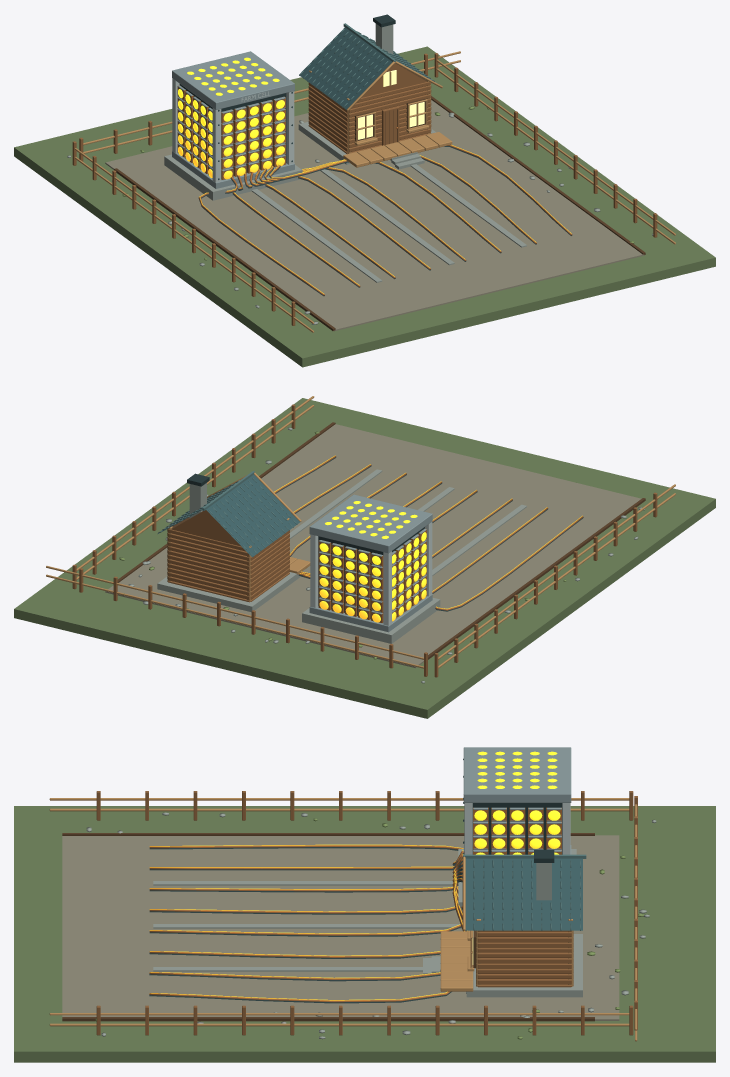
File: forestry-farm-v1.glb
3 renders of one model, top to bottom at view 1: azimuth 30°, elevation 25°; view 2: azimuth 150°, elevation 25°; view 3: azimuth 270°, elevation 25°, orthographic. The views are drawn at different scales.
Visible parts, largest first — view 1: env_WarmGravel, env_ForestFloor, env_HoneyTimber, env_TimberEdges, env_BrushedSteel, env_Copper, env_Stone, env_SlateTeal, env_Graphite, env_WoodGrain, env_PaleAlloy, env_CinderConduit (+6 smaller); view 2: env_ForestFloor, env_WarmGravel, env_HoneyTimber, env_BrushedSteel, env_TimberEdges, env_Stone, env_Copper, env_SlateTeal, env_Graphite, env_WoodGrain, env_PaleAlloy, env_SlateEdges (+7 smaller); view 3: env_ForestFloor, env_WarmGravel, env_TimberEdges, env_HoneyTimber, env_Stone, env_Copper, env_SlateTeal, env_BrushedSteel, env_Graphite, env_WoodGrain, env_CinderConduit, env_SlateEdges (+4 smaller).
Boxes of the visible parts, box(x1,y1,x2,y2) form: env_WarmGravel: box(105, 100, 644, 331); env_ForestFloor: box(14, 46, 715, 367); env_HoneyTimber: box(72, 53, 657, 325); env_TimberEdges: box(74, 51, 675, 332); env_BrushedSteel: box(172, 51, 294, 188); env_Copper: box(177, 85, 572, 295); env_Stone: box(67, 23, 653, 324); env_SlateTeal: box(299, 27, 429, 109); env_Graphite: box(179, 14, 571, 296); env_WoodGrain: box(114, 64, 645, 330); env_PaleAlloy: box(172, 78, 294, 182); env_CinderConduit: box(199, 144, 571, 293); env_ForestFloor: box(14, 398, 715, 718); env_WarmGravel: box(105, 424, 641, 667); env_HoneyTimber: box(72, 404, 657, 677); env_BrushedSteel: box(309, 494, 432, 632); env_TimberEdges: box(46, 396, 675, 668); env_Stone: box(128, 427, 644, 683); env_Copper: box(274, 456, 583, 623); env_SlateTeal: box(158, 475, 300, 557); env_Graphite: box(187, 457, 583, 618); env_WoodGrain: box(117, 422, 645, 659); env_PaleAlloy: box(310, 522, 432, 625); env_SlateEdges: box(157, 471, 297, 556); env_ForestFloor: box(14, 806, 715, 1062); env_WarmGravel: box(62, 835, 619, 1020); env_TimberEdges: box(49, 798, 637, 1041); env_HoneyTimber: box(96, 791, 637, 1035); env_Stone: box(86, 812, 656, 1039); env_Copper: box(149, 807, 561, 1002); env_SlateTeal: box(464, 858, 582, 930); env_BrushedSteel: box(463, 747, 571, 854); env_Graphite: box(149, 758, 562, 1003); env_WoodGrain: box(62, 833, 594, 1021); env_CinderConduit: box(149, 844, 467, 1000); env_SlateEdges: box(463, 854, 586, 930).
Size of the model in its own units: 24.03 by 6.42 by 29.
